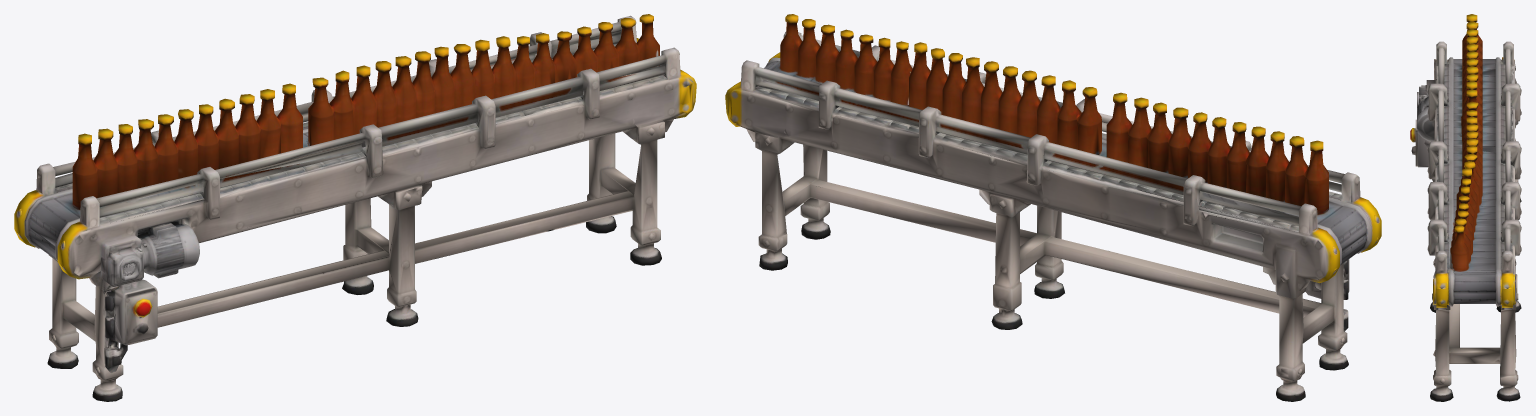
The model's file is conveyor.glb.
3 views of the same model, side by side, from view 1: azimuth 30°, elevation 25°; view 2: azimuth 150°, elevation 25°; view 3: azimuth 270°, elevation 25° (orthographic). The views are drawn at different scales.
Parts seen in each view (by area): view 1: tripo_node_77f58f42-e5c5-46cc-92bd-ea706e85ac90; view 2: tripo_node_77f58f42-e5c5-46cc-92bd-ea706e85ac90; view 3: tripo_node_77f58f42-e5c5-46cc-92bd-ea706e85ac90.
Boxes of the visible parts, <box> form: tripo_node_77f58f42-e5c5-46cc-92bd-ea706e85ac90: <box>14,14,696,401</box>; tripo_node_77f58f42-e5c5-46cc-92bd-ea706e85ac90: <box>725,14,1381,401</box>; tripo_node_77f58f42-e5c5-46cc-92bd-ea706e85ac90: <box>1410,14,1521,401</box>.
Size of the model in its own units: 0.9793 by 0.3622 by 0.1974.
Materials: 1 (1 with a texture image).
